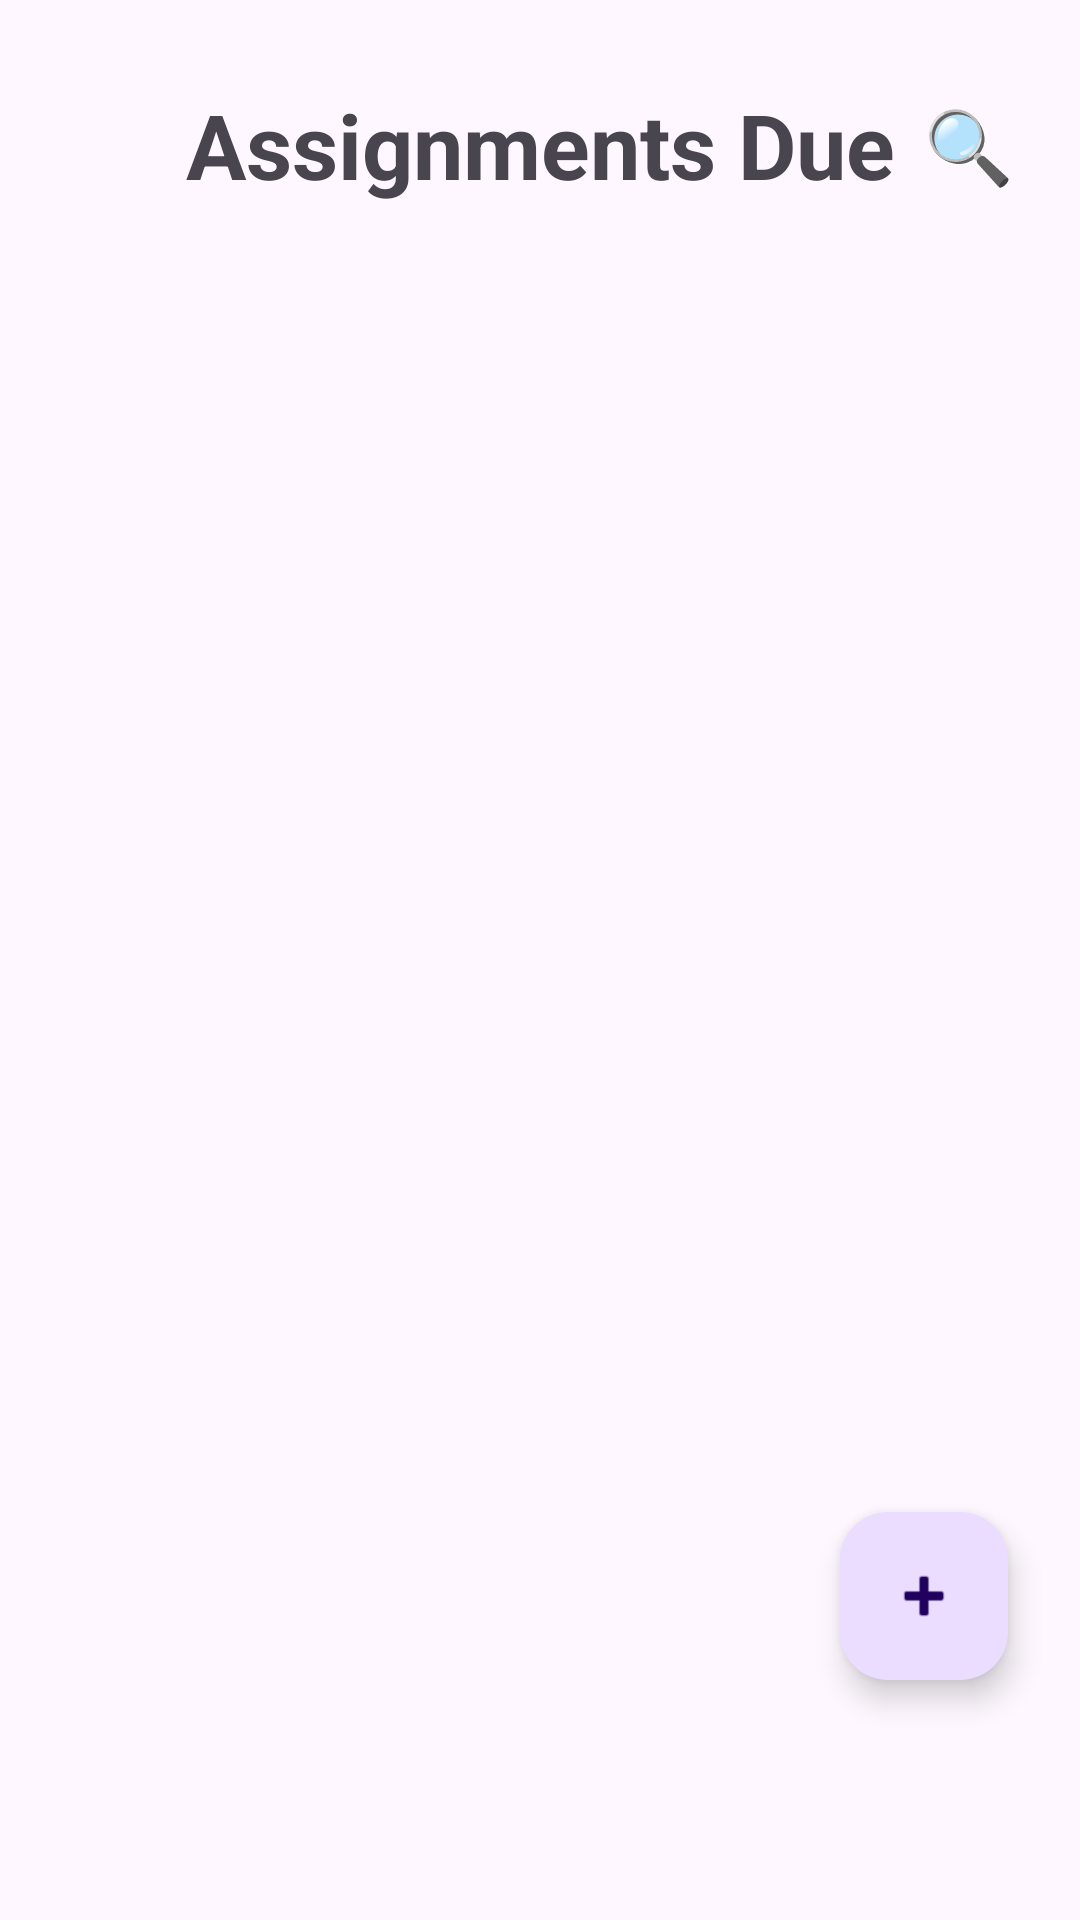

Named icons in this screenshot (1080 x 1920) and their bounding boxes, (x1, y1, x2, y2):
Add Assignment: (840, 1512, 1008, 1680)
